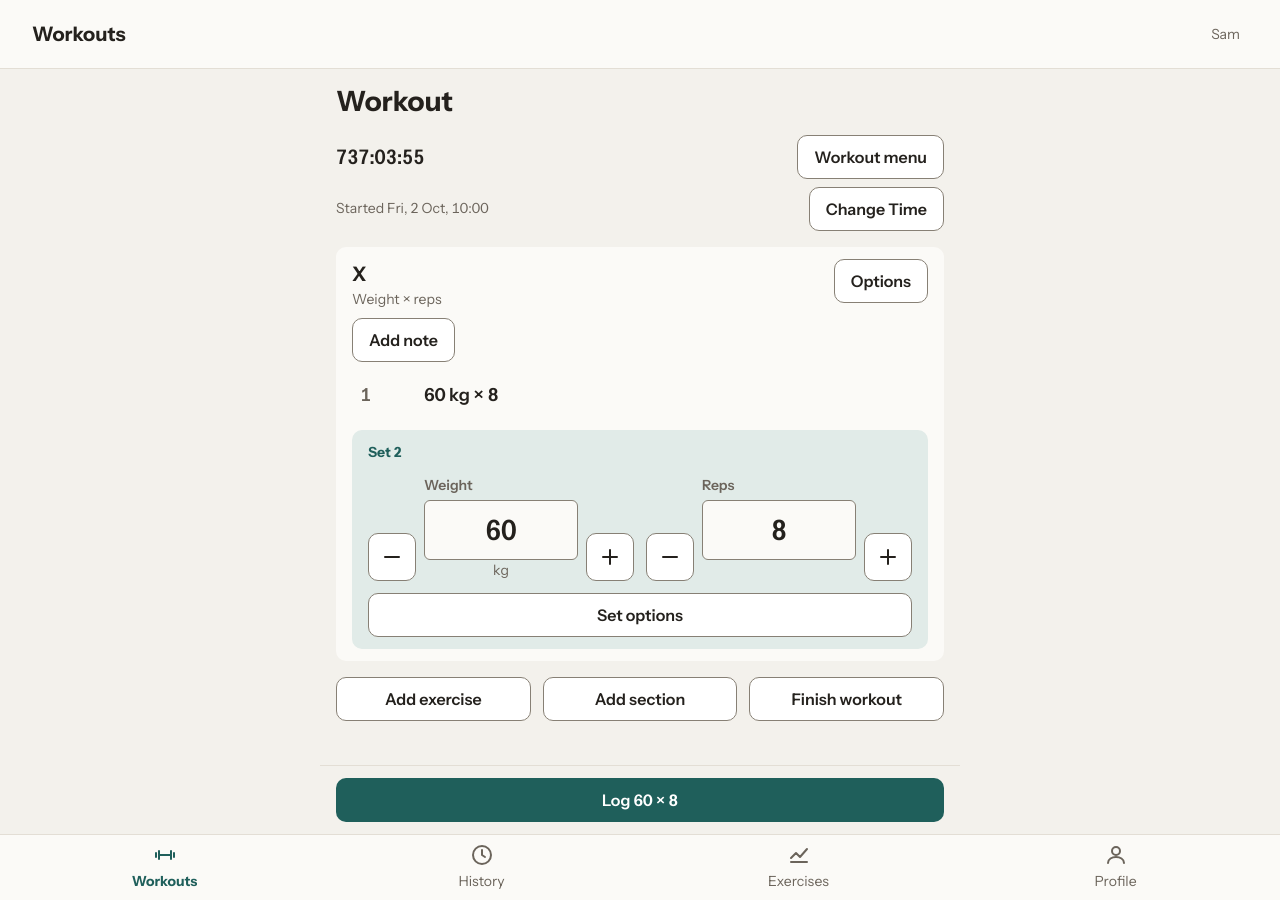
Test: 17.1 AC2 — an edit never clears a stored RPE, and a fresh log carries none › editing the reps of a set with rpe 8 sends { reps } and no rpe key
Check: the heading "Workout" is shown, box [336,84,453,118]
Click the button "1 60 kg × 8" at (461,395), box [352,374,928,418]
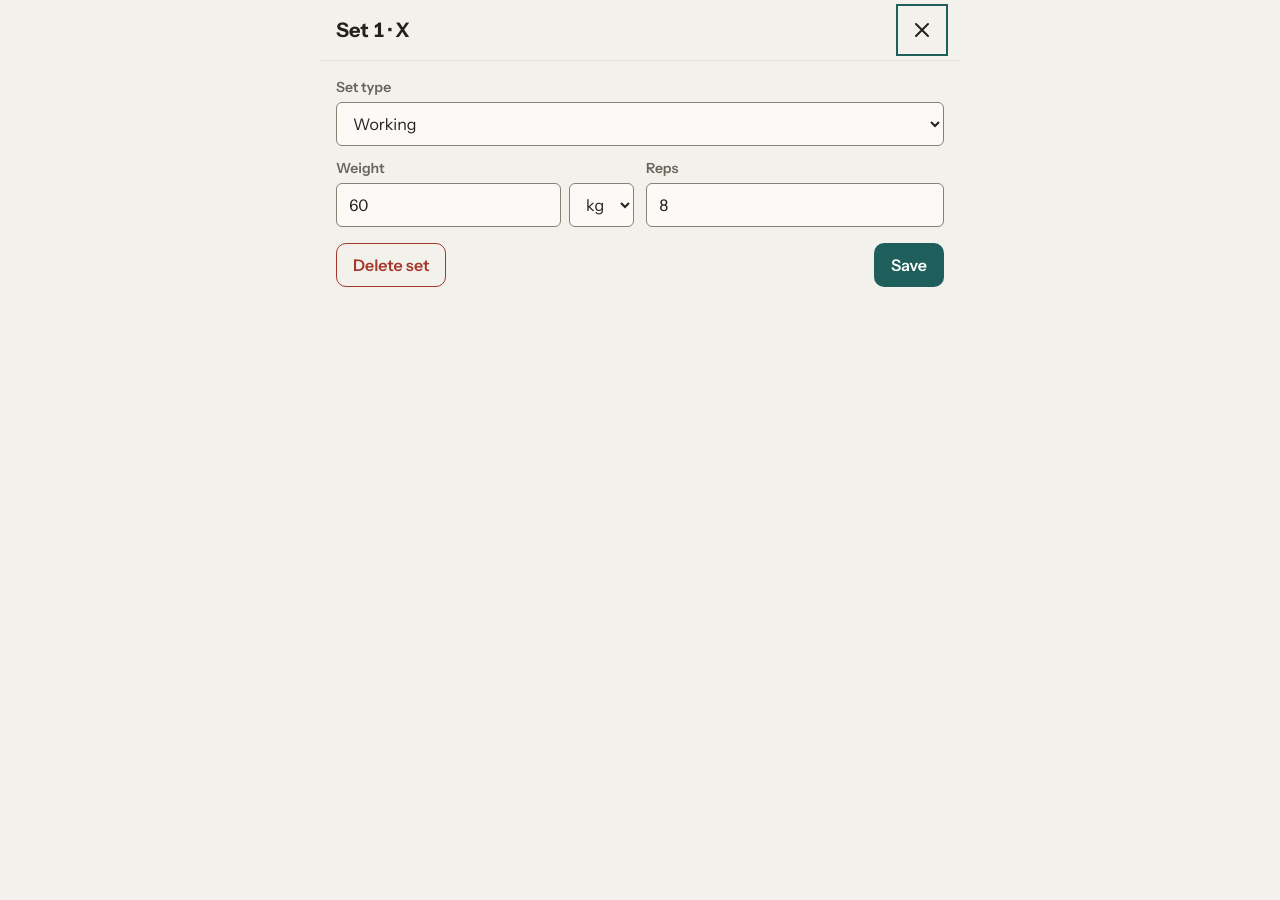
Replace the text in the field labelled "Reps" with "9" at (795,205), box [646,183,944,227]
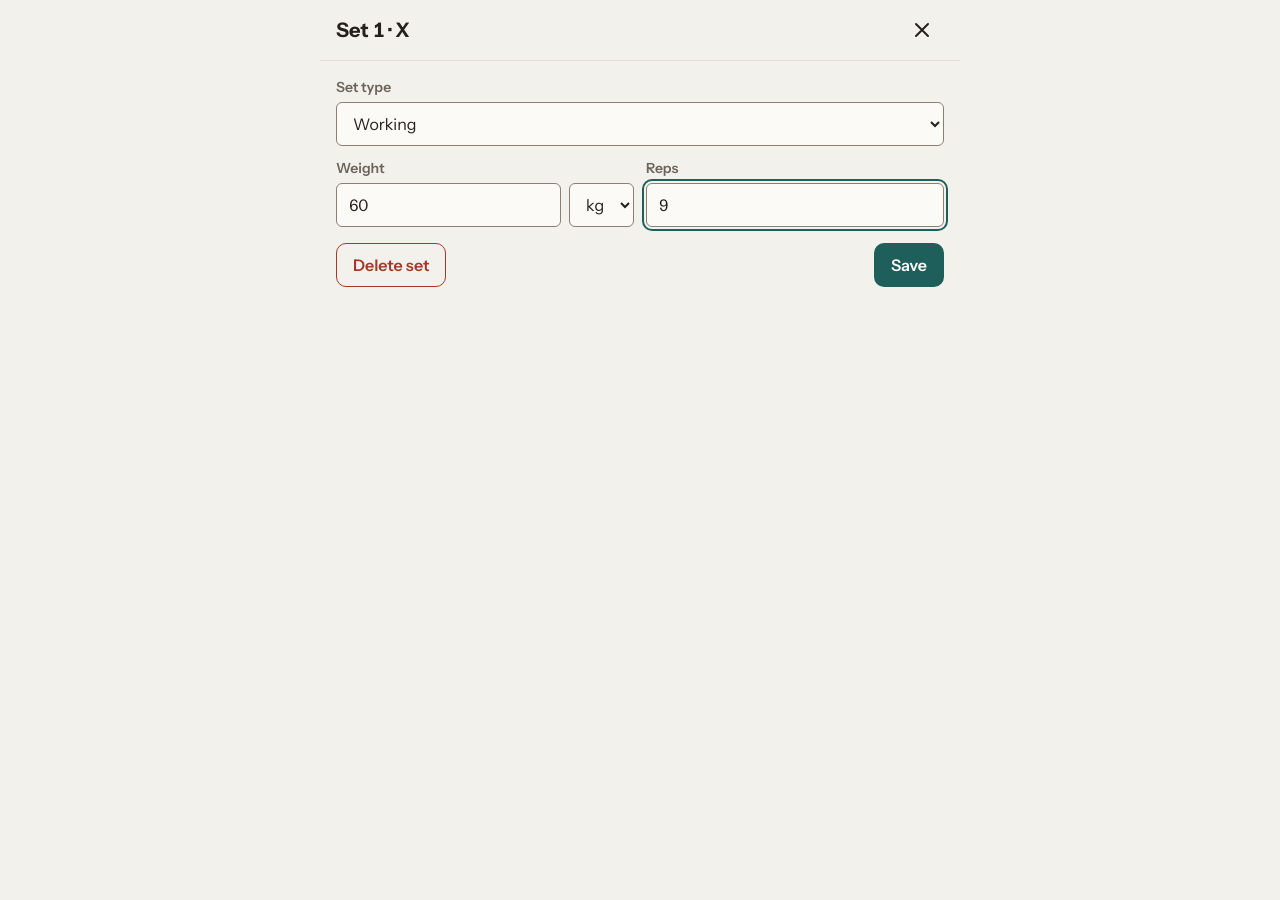
Click the button "Save" at (909,265), box [874,243,944,287]
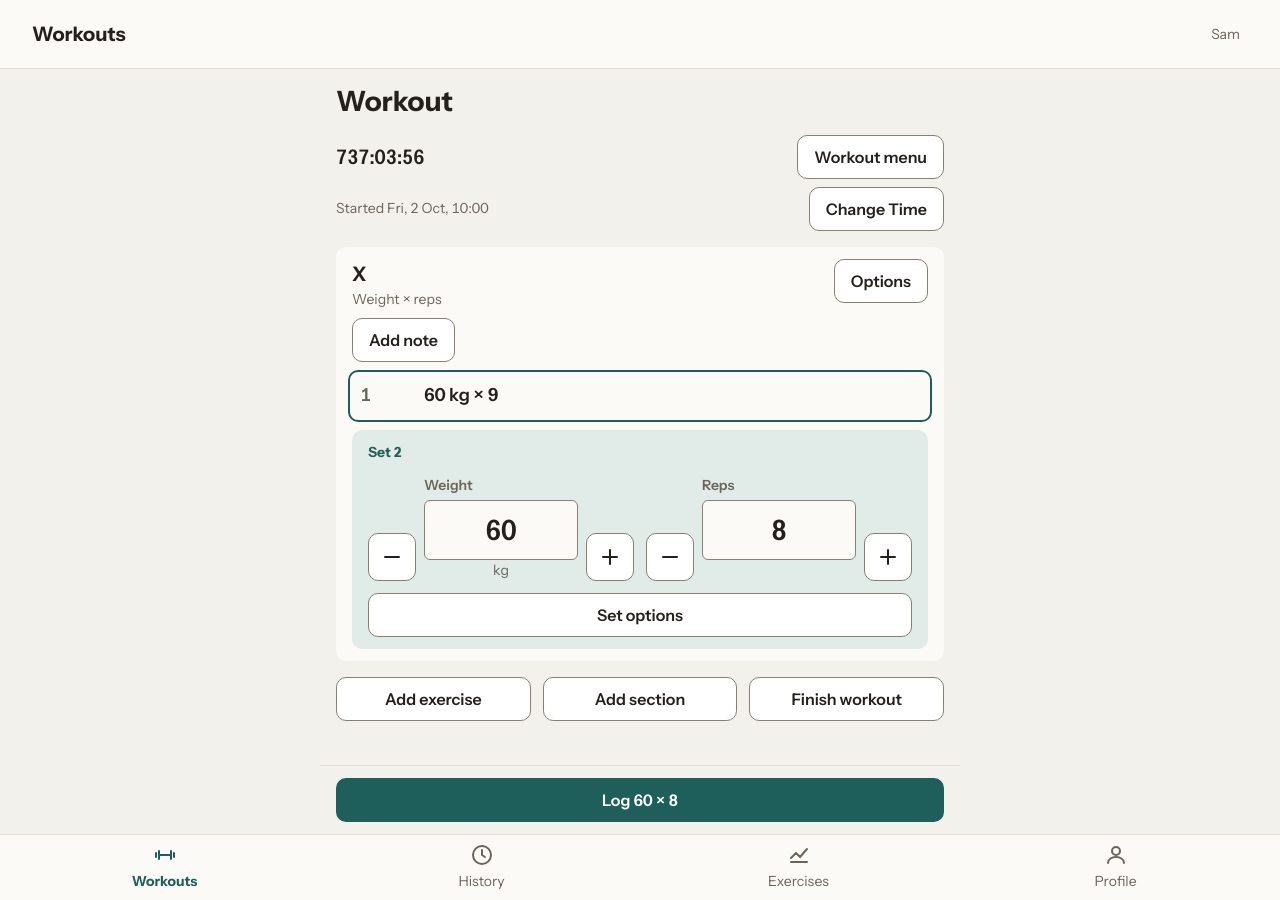
Check: the text "60 kg × 9" is shown, box [424,382,498,409]
